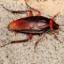cockroach: (8, 14, 60, 36)
